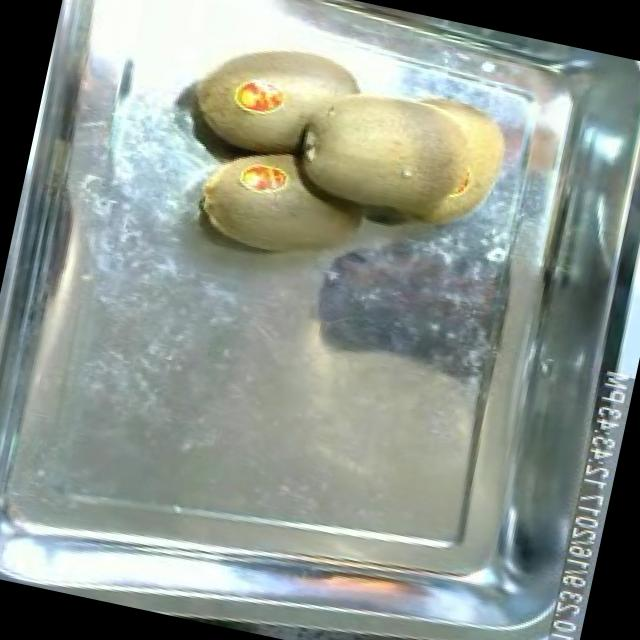Fruit: (272, 55, 528, 257), (182, 130, 380, 282)
